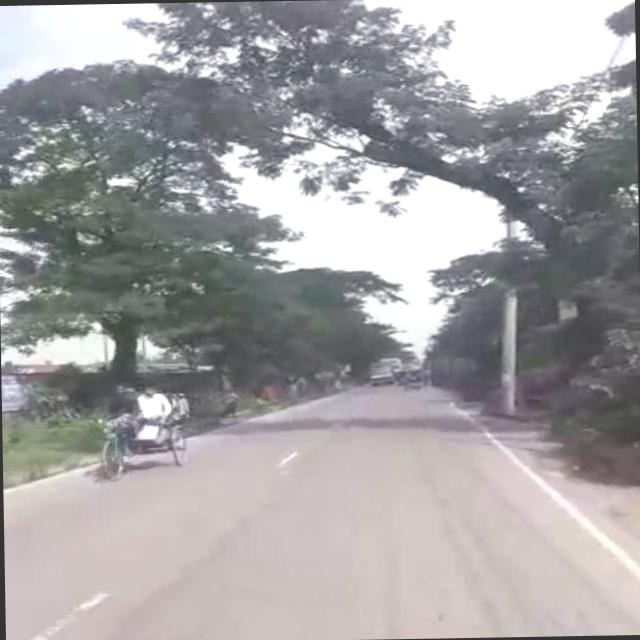motorcycle: (104, 389, 190, 478)
